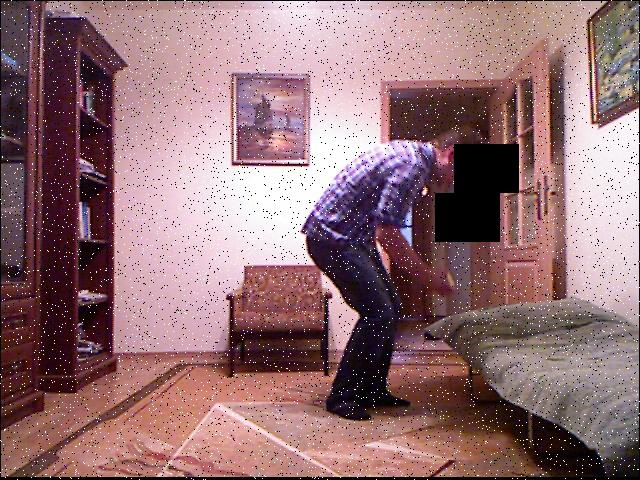bending: (301, 104, 497, 427)
